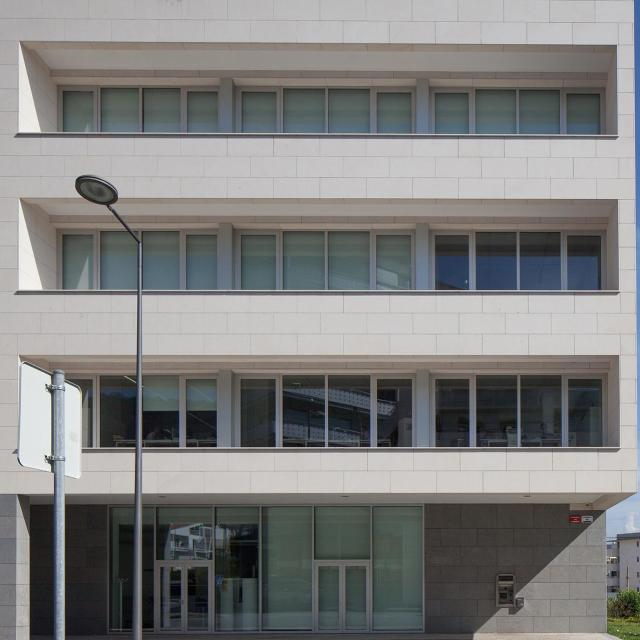door: (152, 559, 217, 639), (312, 560, 373, 640)
window: (108, 502, 426, 638), (432, 375, 605, 449), (237, 377, 410, 451), (234, 230, 417, 289), (428, 229, 607, 289), (58, 225, 215, 292), (87, 376, 217, 447), (236, 85, 416, 135), (58, 83, 217, 137), (430, 86, 603, 134)
